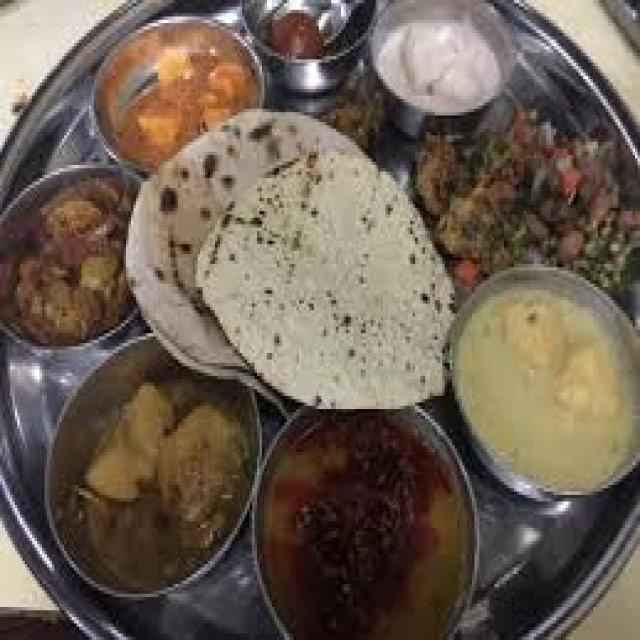dal: (452, 261, 634, 491)
roti: (161, 105, 450, 403)
sweet: (7, 165, 140, 344), (375, 4, 519, 126)
veg-fry: (242, 399, 485, 640), (405, 90, 640, 291), (86, 0, 270, 176), (5, 157, 132, 353), (374, 7, 515, 136)
